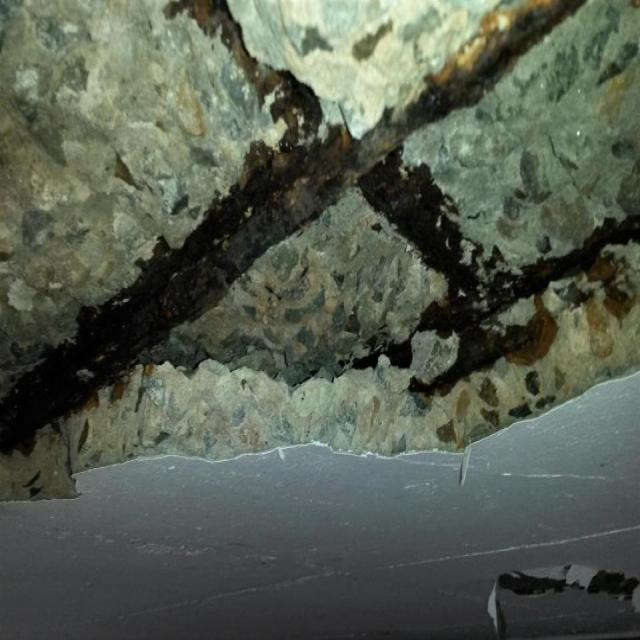Rebar: (0, 0, 638, 503)
